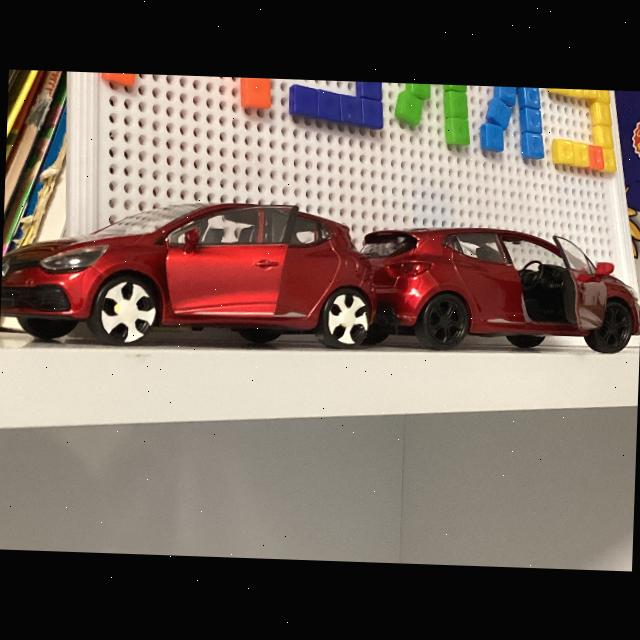Dogru_Jant: (596, 304, 632, 349), (431, 300, 463, 343)
Yanlis_Jant: (98, 279, 156, 344), (326, 292, 369, 344)
